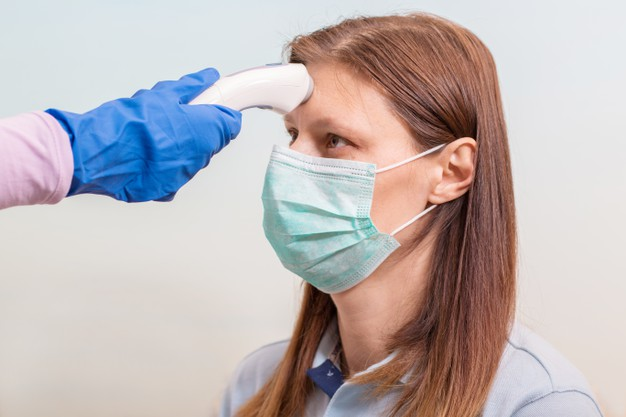Gloves: (38, 64, 242, 204)
with_mask: (261, 113, 408, 293)
